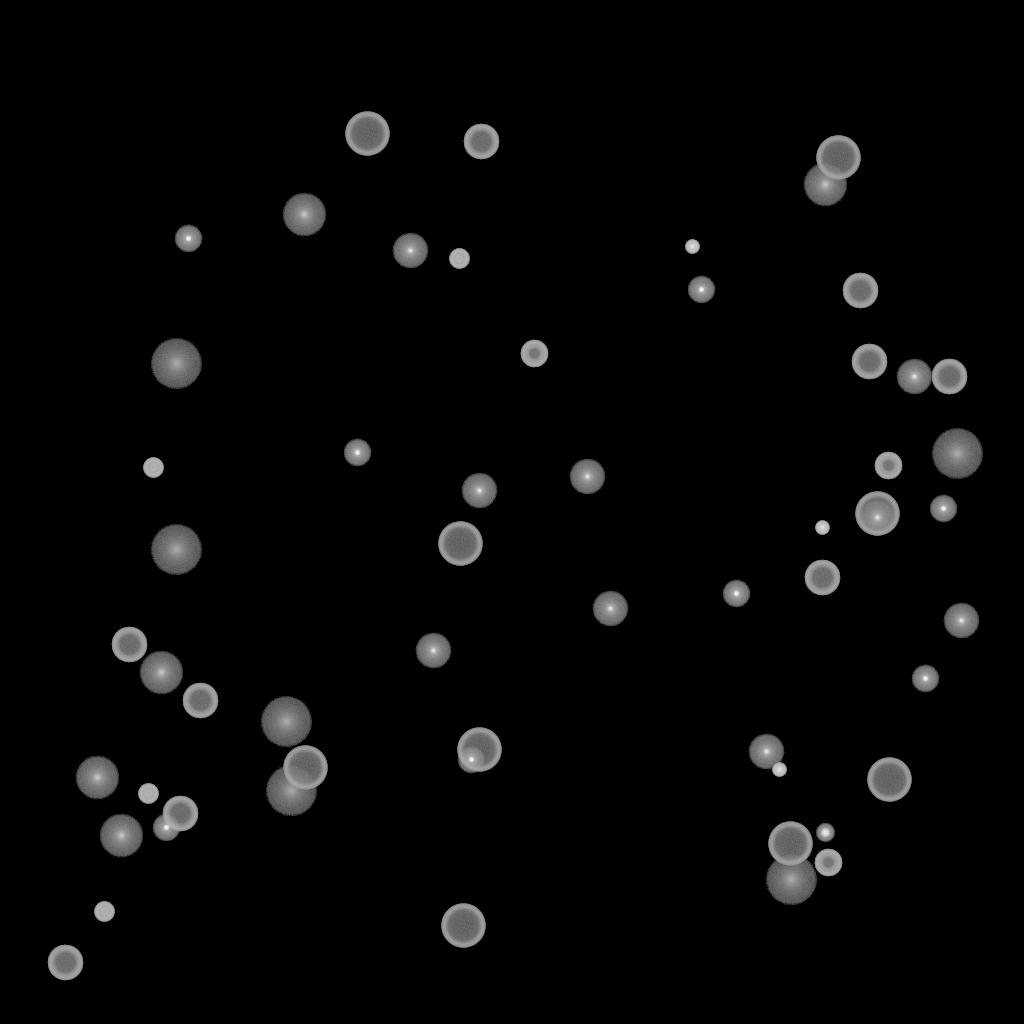depth:-10: (457, 746, 485, 774), (722, 580, 750, 608), (687, 276, 715, 304), (929, 495, 957, 523), (343, 439, 371, 467), (152, 814, 180, 842), (174, 225, 202, 253), (911, 665, 939, 693)
depth:-20: (816, 824, 834, 842)
depth:-30: (685, 240, 699, 254), (815, 521, 829, 535), (772, 763, 786, 777)
depth:-40: (138, 784, 158, 804), (449, 249, 469, 269), (94, 902, 114, 922), (143, 458, 163, 478)
depth:-50: (814, 849, 842, 877), (874, 452, 902, 480), (520, 340, 548, 368)
depth:-60: (162, 796, 198, 832), (182, 683, 218, 719), (931, 359, 967, 395), (47, 945, 83, 981), (463, 124, 499, 160), (851, 344, 887, 380), (111, 627, 147, 663), (842, 273, 878, 309), (804, 560, 840, 596)
depth:-70: (345, 112, 389, 156), (855, 492, 899, 536), (768, 822, 812, 866), (816, 136, 860, 180), (441, 904, 485, 948), (438, 522, 482, 566), (867, 758, 911, 802), (283, 746, 327, 790), (457, 728, 501, 772)
depth:0: (415, 633, 451, 669), (859, 500, 895, 536), (896, 359, 932, 395), (748, 734, 784, 770), (592, 591, 628, 627), (461, 473, 497, 509), (392, 233, 428, 269), (569, 459, 605, 495), (943, 603, 979, 639)
depth:10: (282, 193, 326, 237), (75, 756, 119, 800), (99, 814, 143, 858), (803, 163, 847, 207), (139, 651, 183, 695)
depth:20: (260, 697, 312, 747), (150, 339, 202, 389), (765, 855, 817, 905), (931, 429, 983, 479), (150, 525, 202, 575), (265, 766, 317, 816)
